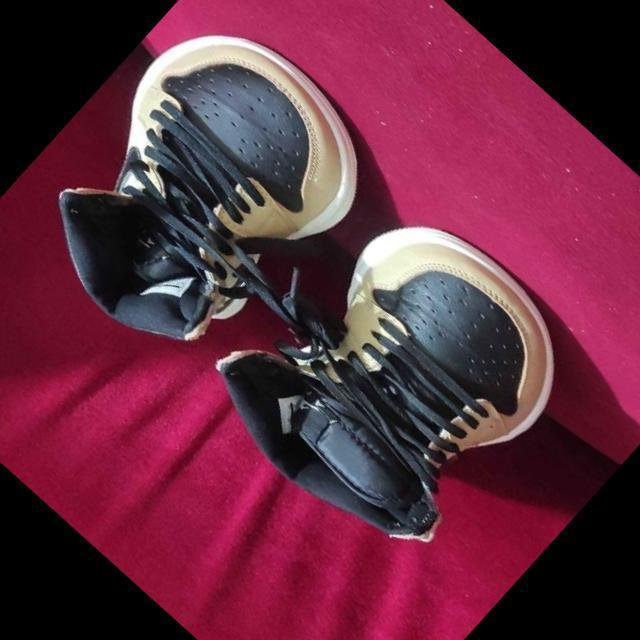nike fake jordan 1: (191, 168, 603, 582), (0, 0, 403, 393)
